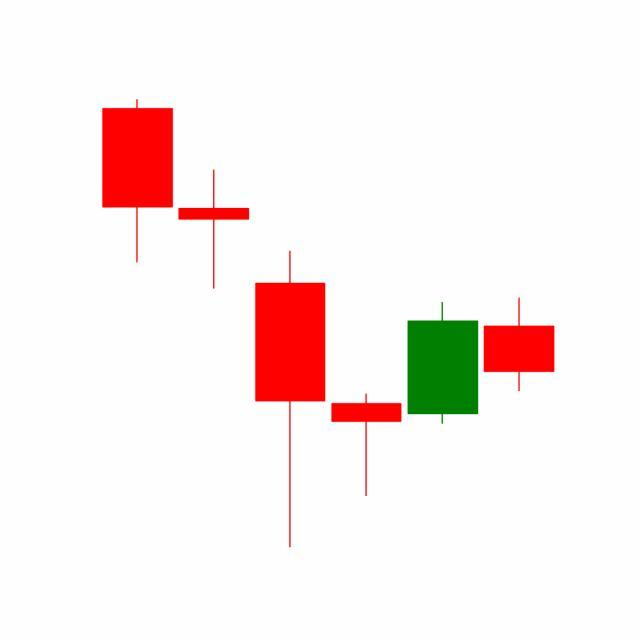Upside-Downside Gap Three Methods: (252, 247, 482, 549)
